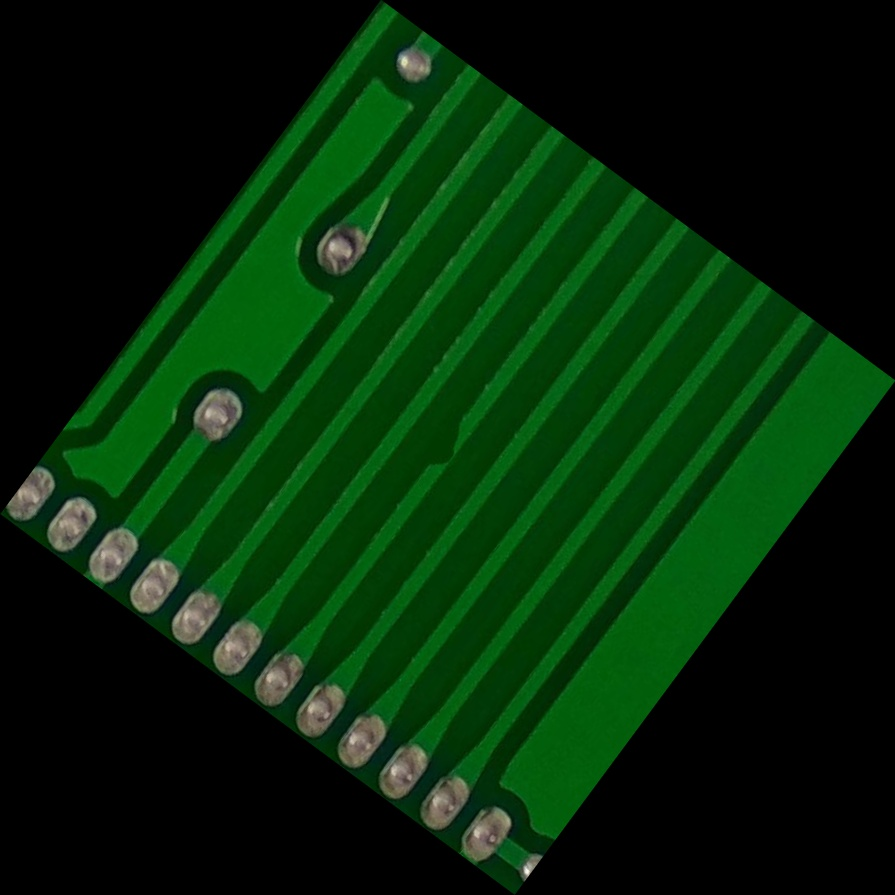mouse_bite: (397, 393, 498, 502)
